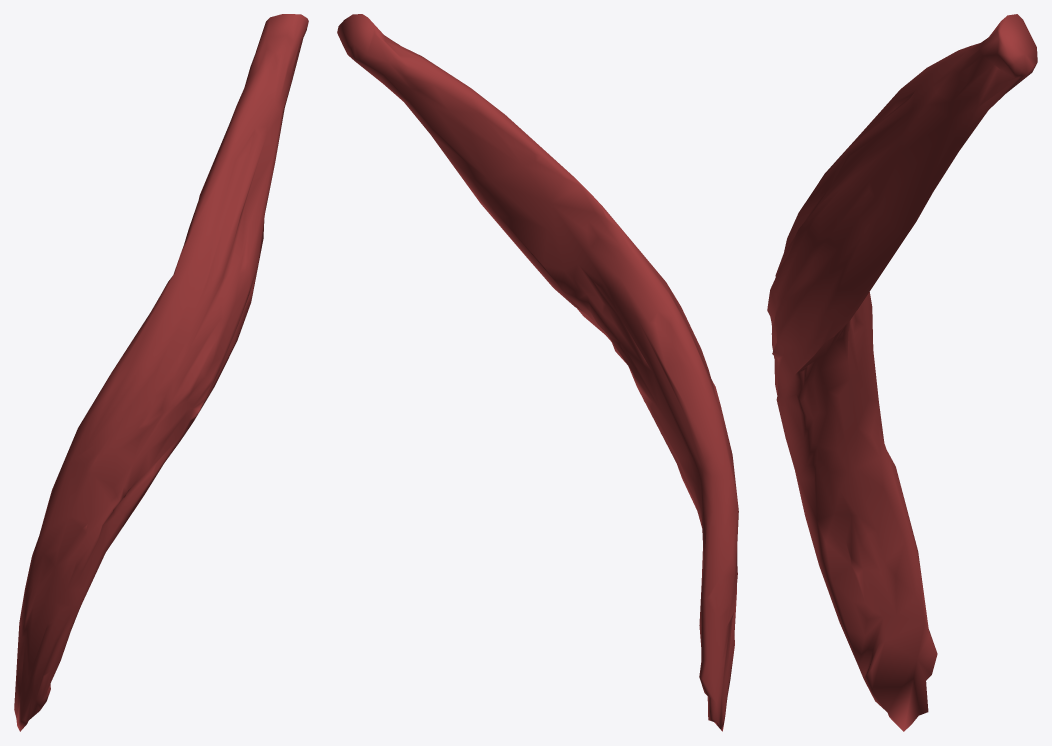
Rendered from deep-head-of-pronator-teres-r.glb.
The picture shows the model from 3 angles, left to right: view 1: azimuth 30°, elevation 25°; view 2: azimuth 150°, elevation 25°; view 3: azimuth 270°, elevation 25°; orthographic projection. The views are drawn at different scales.
Visible parts, largest first — view 1: Deep head of pronator teres.r; view 2: Deep head of pronator teres.r; view 3: Deep head of pronator teres.r.
Part boxes in pixels (x1,y1,x2,y2): Deep head of pronator teres.r: (14, 14, 308, 731); Deep head of pronator teres.r: (337, 14, 738, 731); Deep head of pronator teres.r: (767, 14, 1037, 731).
Bounding box in the file's own units: 0.0538 × 0.0971 × 0.0255.
